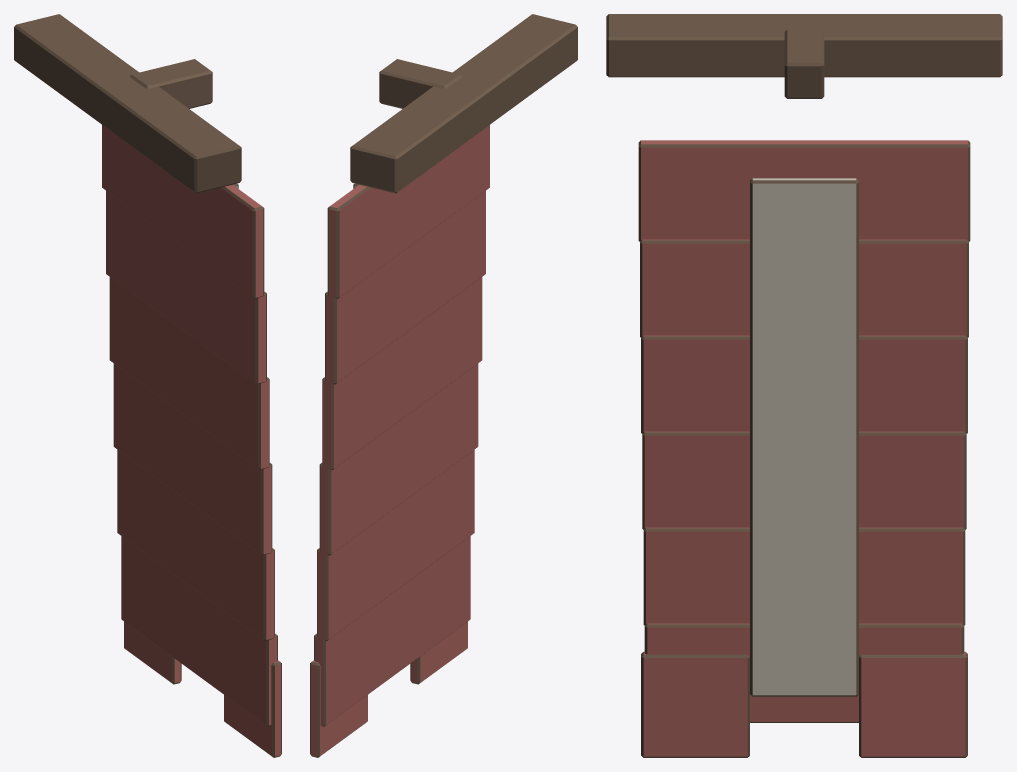
Rendered from SM_Kit_bandeira.fbx.
3 views of the same model, side by side, from view 1: azimuth 30°, elevation 25°; view 2: azimuth 150°, elevation 25°; view 3: azimuth 270°, elevation 25° (orthographic). The views are drawn at different scales.
Parts seen in each view (by area): view 1: SM_Kit_bandeira; view 2: SM_Kit_bandeira; view 3: SM_Kit_bandeira.
Boxes of the visible parts, x1,y1,x2,y2 form: SM_Kit_bandeira: (14,14,281,757); SM_Kit_bandeira: (310,14,577,757); SM_Kit_bandeira: (606,14,1002,757).
Size of what is drawn, in the model's own units: 56 by 309 by 160.
